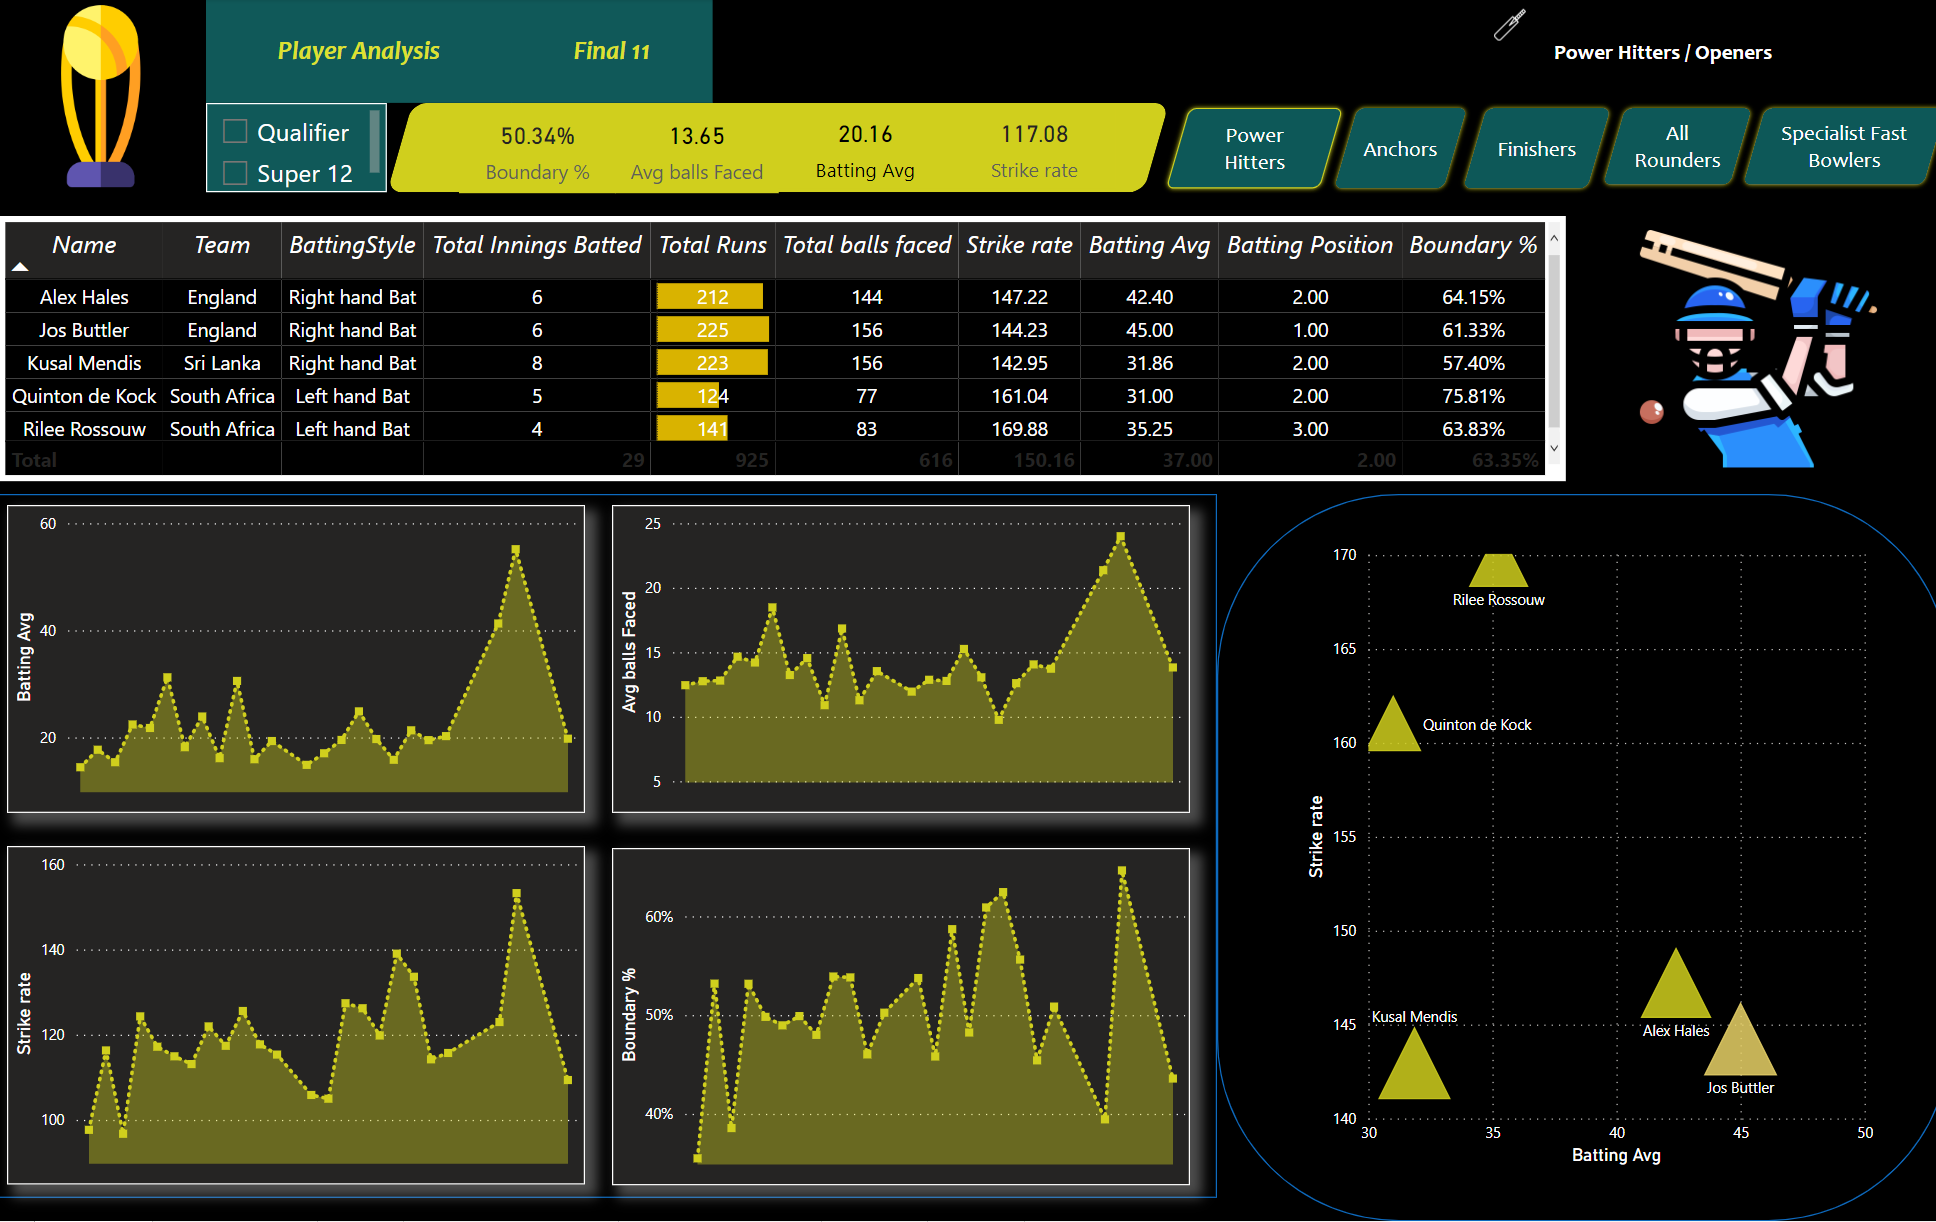

The dashboard page shown, as its layout file describes it:
{"tool":"powerbi","page":{"name":"Project/power","canvas":[1600,1000],"ordinal":0},"visuals":[{"type":"group","id":"g1","title":"Group 2","box":[1276,0,324.3,86.2],"z":0,"group":"g2"},{"type":"shape","box":[1276,0,324.3,86.2],"z":0,"group":"g1"},{"type":"shape","box":[321,85.1,639.5,72.9],"z":0},{"type":"image","box":[1221.8,0,35.9,41.6],"z":1000,"group":"g2"},{"type":"card","fields":{"Values":["key_measures.Avg balls Faced"]},"box":[507,86.3,133.7,72.9],"z":1000},{"type":"card","fields":{"Values":["key_measures.Strike rate"]},"box":[784.2,86.3,132.5,69.3],"z":2000},{"type":"card","fields":{"Values":["key_measures.Boundary %"]},"box":[379.3,86.3,127.7,72.9],"z":3000},{"type":"card","fields":{"Values":["key_measures.Batting Avg"]},"box":[640.7,86.3,143.5,69.3],"z":4000},{"type":"actionButton","title":"Button Player Ana selected","box":[172.4,0,250,85],"z":5000},{"type":"actionButton","title":"Button Player Ana selected","box":[422.4,0,165,85],"z":6000},{"type":"actionButton","box":[954.4,85.1,153.2,74.2],"z":7000},{"type":"actionButton","box":[1091.3,85.3,116.9,74.2],"z":8000},{"type":"actionButton","box":[1197.6,85.1,128.9,74.2],"z":9000},{"type":"actionButton","box":[1311.9,85.1,130.1,70.5],"z":10000},{"type":"actionButton","box":[1426.1,85.1,173.9,70.5],"z":11000},{"type":"slicer","fields":{"Values":["Dim_match_summary.stage"]},"box":[172.6,85.1,148.3,72.9],"z":12000},{"type":"tableEx","fields":{"Values":["Dim_players.name","Dim_players.team","Dim_players.battingStyle","key_measures.Total Innings Batted","key_measures.Total Runs","key_measures.total balls faced","key_measures.Strike rate","key_measures.Batting Avg","key_measures.Batting Position","key_measures.Boundary %"]},"box":[2.5,177.3,1283.3,216.7],"z":13000},{"type":"group","id":"g2","title":"Group 1","box":[1221.8,0,378,86.2],"z":14000},{"type":"shape","box":[0,405.2,1000,576.4],"z":15000},{"type":"areaChart","fields":{"Y":["key_measures.Batting Avg"],"Category":["Dim_match_summary.matchDate"]},"box":[9.9,413.8,472.9,252.5],"z":16000},{"type":"areaChart","fields":{"Y":["key_measures.Avg balls Faced"],"Category":["Dim_match_summary.matchDate"]},"box":[504.9,413.8,472.9,252.5],"z":17000},{"type":"areaChart","fields":{"Y":["key_measures.Strike rate"],"Category":["Dim_match_summary.matchDate"]},"box":[9.9,693.3,472.9,277.1],"z":18000},{"type":"areaChart","fields":{"Y":["key_measures.Boundary %"],"Category":["Dim_match_summary.matchDate"]},"box":[504.9,694.6,472.9,275.9],"z":19000},{"type":"shape","box":[1000,405.2,599.8,594.8],"z":20000},{"type":"scatterChart","fields":{"X":["key_measures.Batting Avg"],"Y":["key_measures.Strike rate"],"Category":["Dim_players.name"],"Size":["key_measures.Total Runs"]},"box":[1067.7,440.9,474.1,518.5],"z":21000},{"type":"image","box":[1285.7,177.3,314,216.7],"z":22000},{"type":"image","box":[0,0,172.4,158.9],"z":23000}]}

Visuals, with their boxes in screenshot pixels (x1, y1, x2, y2), scaled from the page's 1600x1000 canvas onto the 1936x1222 screenshot:
"Group 2" group: (1544,0,1935,105)
shape: (1544,0,1935,105)
shape: (388,104,1162,193)
image: (1478,0,1522,51)
card - key_measures.Avg balls Faced: (613,105,775,195)
card - key_measures.Strike rate: (949,105,1109,190)
card - key_measures.Boundary %: (459,105,613,195)
card - key_measures.Batting Avg: (775,105,949,190)
"Button Player Ana selected" actionButton: (209,0,511,104)
"Button Player Ana selected" actionButton: (511,0,711,104)
actionButton: (1155,104,1340,195)
actionButton: (1320,104,1462,195)
actionButton: (1449,104,1605,195)
actionButton: (1587,104,1745,190)
actionButton: (1726,104,1935,190)
slicer - Dim_match_summary.stage: (209,104,388,193)
tableEx - Dim_players.name x Dim_players.team: (3,217,1556,481)
"Group 1" group: (1478,0,1935,105)
shape: (0,495,1210,1200)
areaChart - key_measures.Batting Avg x Dim_match_summary.matchDate: (12,506,584,814)
areaChart - key_measures.Avg balls Faced x Dim_match_summary.matchDate: (611,506,1183,814)
areaChart - key_measures.Strike rate x Dim_match_summary.matchDate: (12,847,584,1186)
areaChart - key_measures.Boundary % x Dim_match_summary.matchDate: (611,849,1183,1186)
shape: (1210,495,1935,1221)
scatterChart - key_measures.Batting Avg x key_measures.Strike rate: (1292,539,1866,1172)
image: (1556,217,1935,481)
image: (0,0,209,194)
